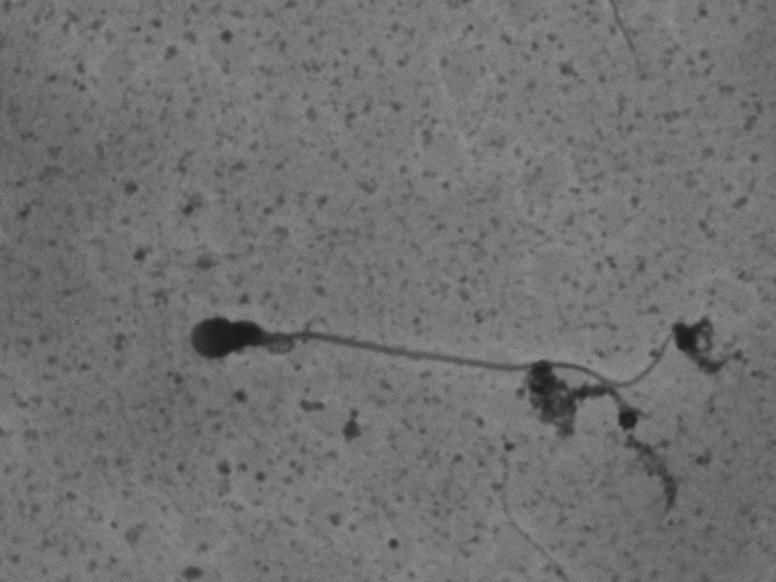Abnormal: (154, 243, 714, 423)
